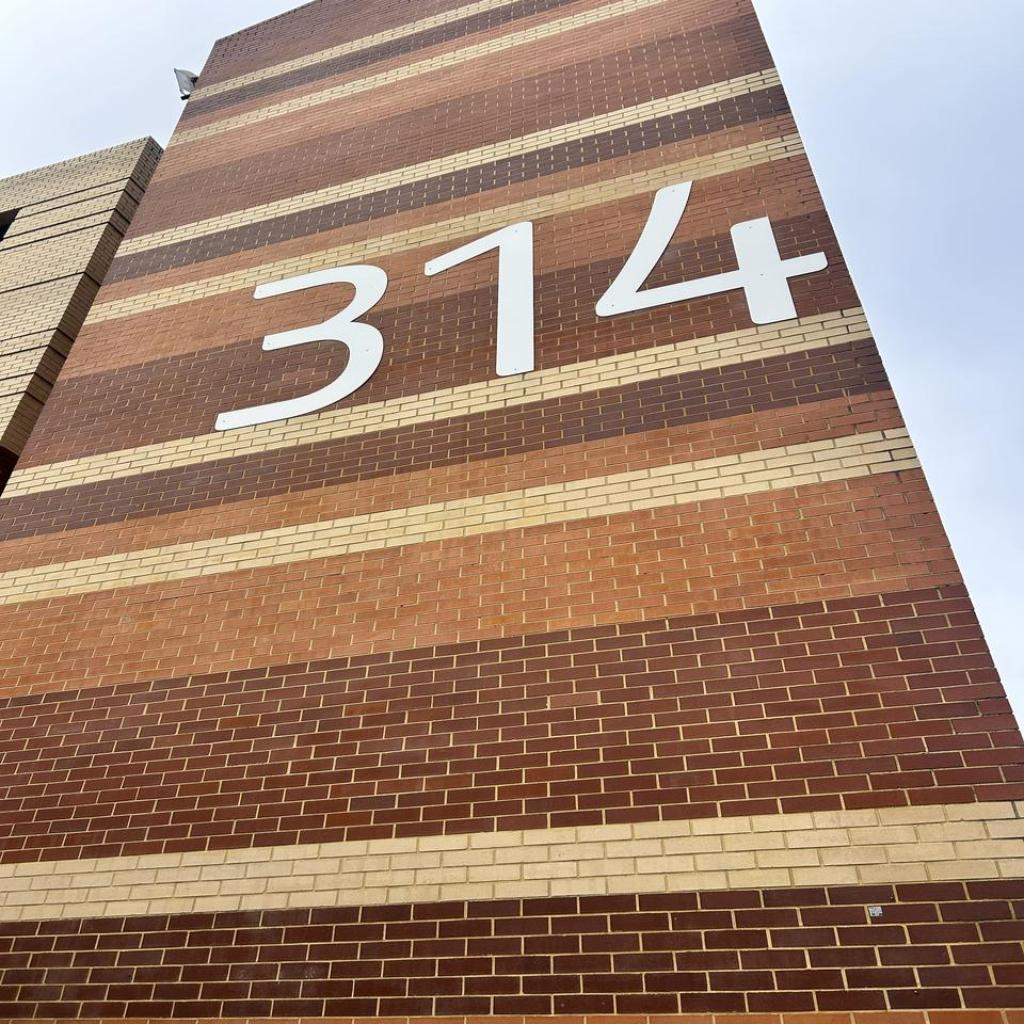BuildingCodes: (210, 175, 834, 433)
